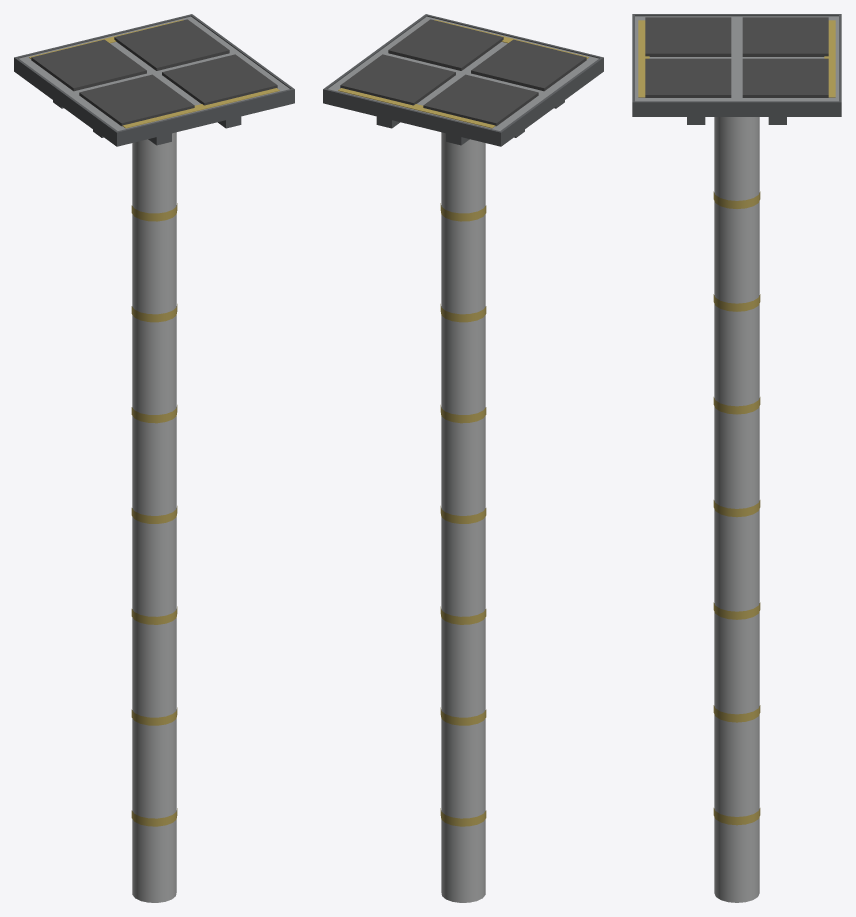
Rendered from stand_deck.glb.
3 renders of one model, left to right at view 1: azimuth 30°, elevation 25°; view 2: azimuth 150°, elevation 25°; view 3: azimuth 270°, elevation 25°, orthographic.
Visible parts, largest first — view 1: stand_deck; view 2: stand_deck; view 3: stand_deck.
Boxes of the visible parts, left/top/right/bottom form: stand_deck: left=14, top=14, right=294, bottom=902; stand_deck: left=323, top=14, right=603, bottom=902; stand_deck: left=632, top=14, right=841, bottom=902.
Size of the model in its own units: 0.924 by 4.08 by 0.924.
